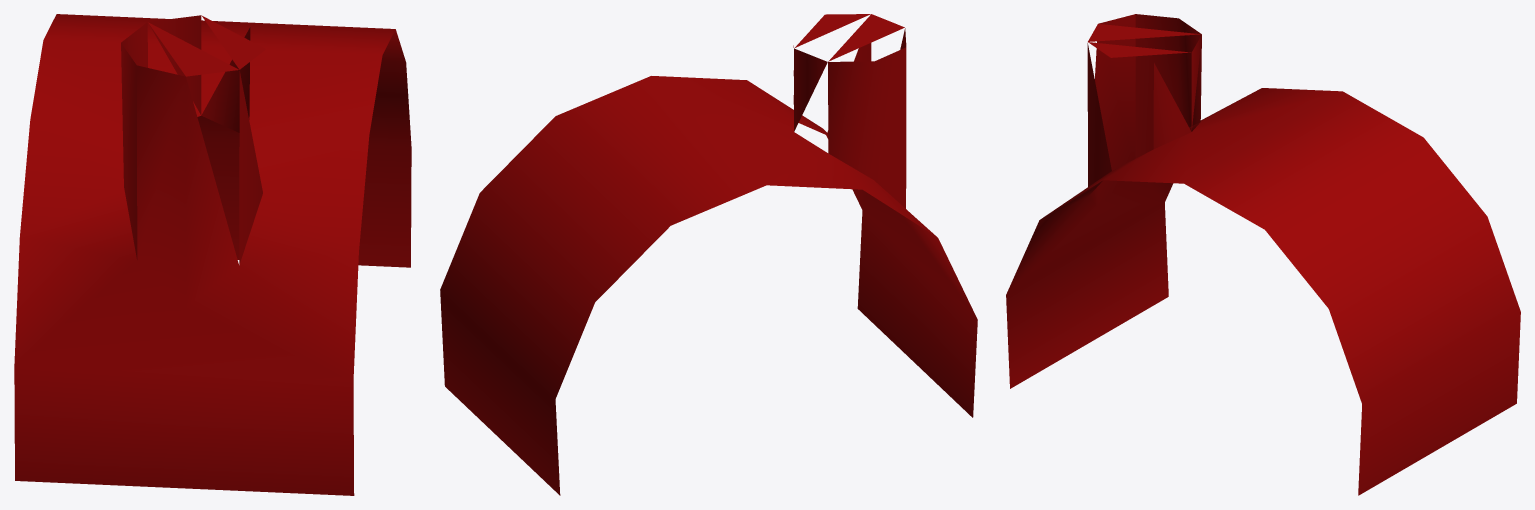
3 renders of one model, left to right at view 1: azimuth 30°, elevation 25°; view 2: azimuth 150°, elevation 25°; view 3: azimuth 270°, elevation 25°, orthographic. The views are drawn at different scales.
Bounding box in the file's own units: 0.1006 × 0.0748 × 0.1085.
